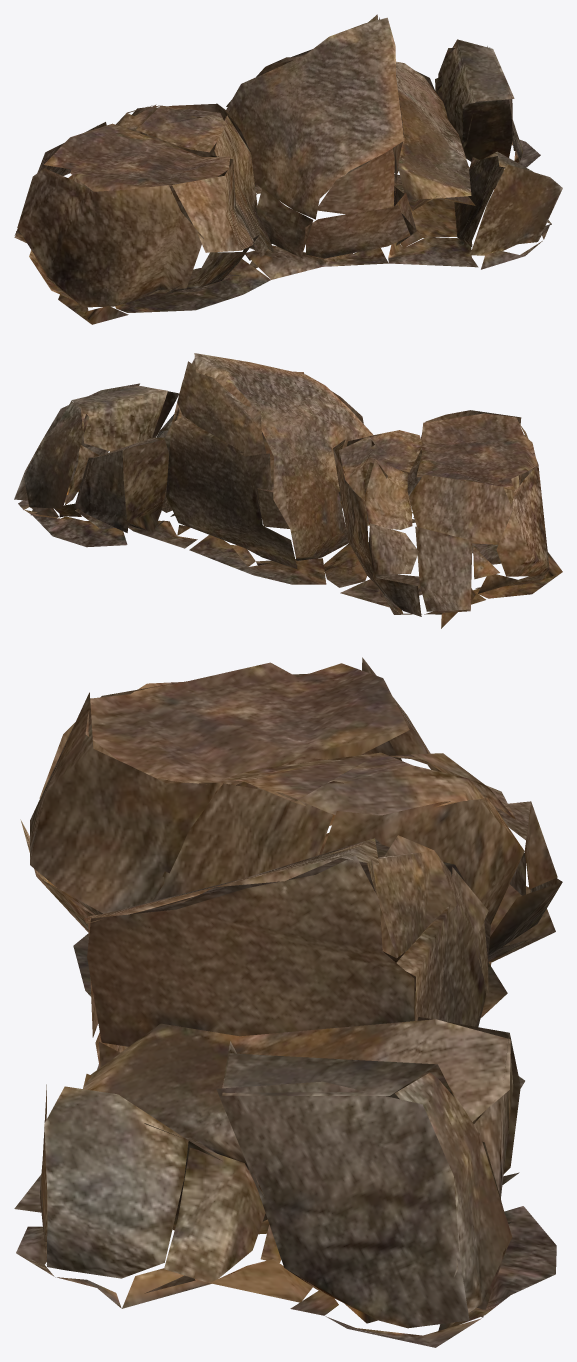
Rendered from boulder-a.glb.
3 views of the same model, one above another, from view 1: azimuth 30°, elevation 25°; view 2: azimuth 150°, elevation 25°; view 3: azimuth 270°, elevation 25° (orthographic). The views are drawn at different scales.
Parts seen in each view (by area): view 1: boulder_02; view 2: boulder_02; view 3: boulder_02.
Boxes of the visible parts, x1,y1,x2,y2 form: boulder_02: (14,14,562,324); boulder_02: (14,353,562,628); boulder_02: (14,657,562,1347).
Bounding box in the file's own units: 2.52 × 0.8935 × 1.21.
1 material, 1 textured.
